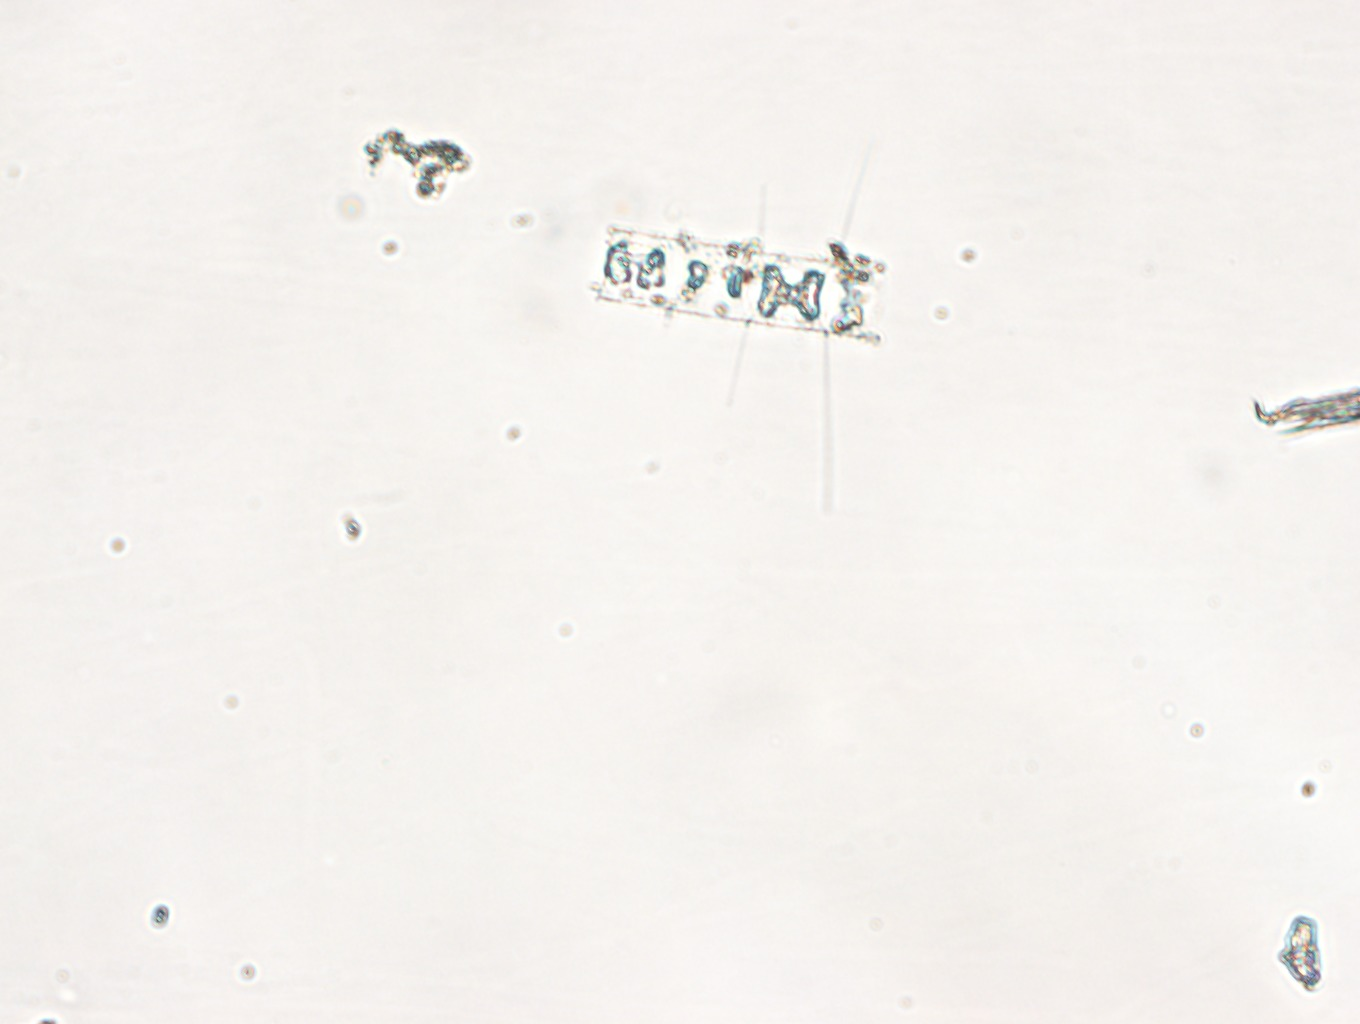chaetoceros: (590, 163, 861, 477)
